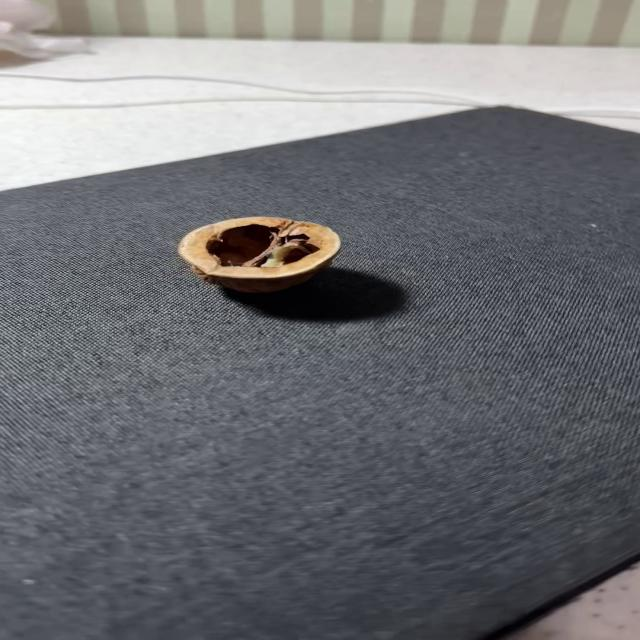nuts-bad0.5: (178, 217, 340, 293)
